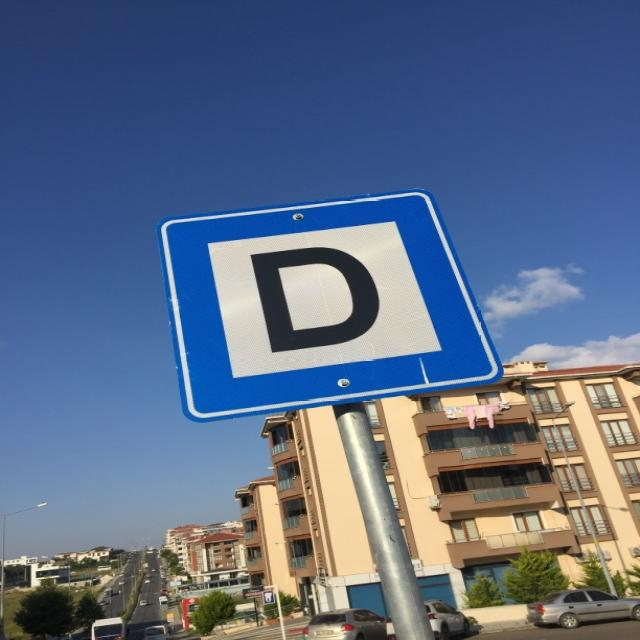durak: (150, 186, 523, 427)
